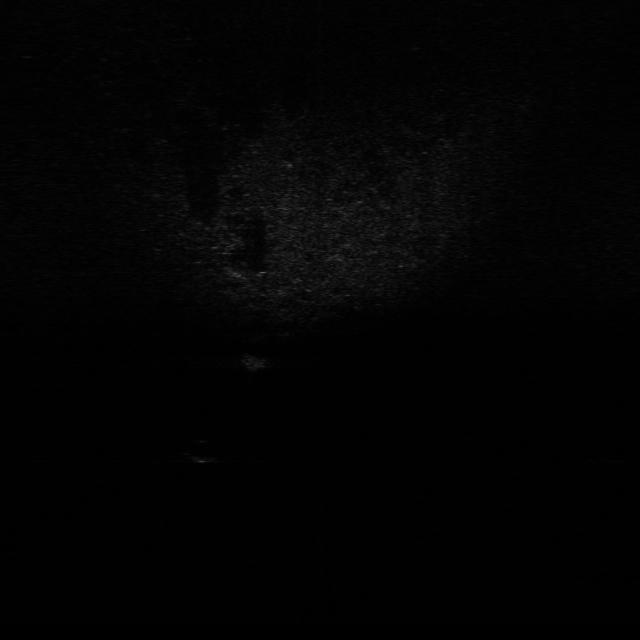ball: (180, 435, 222, 467)
cube: (236, 353, 273, 376)
